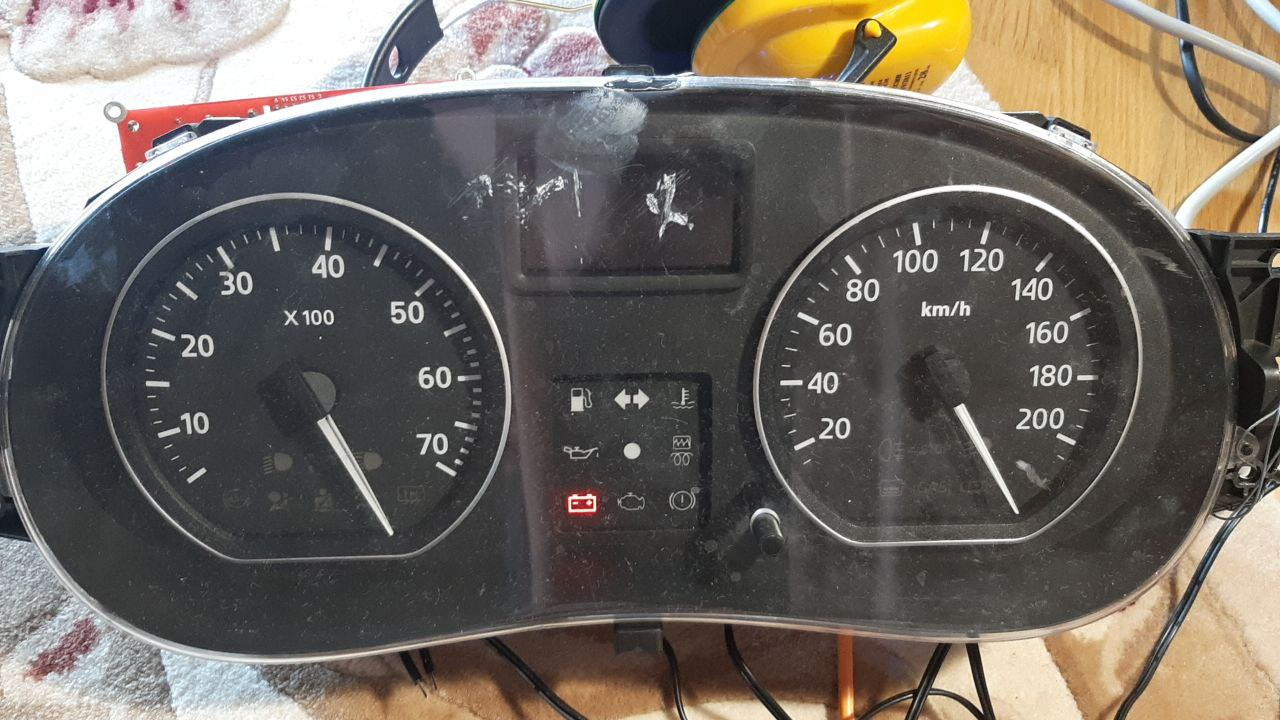accumulator: (558, 491, 600, 520)
